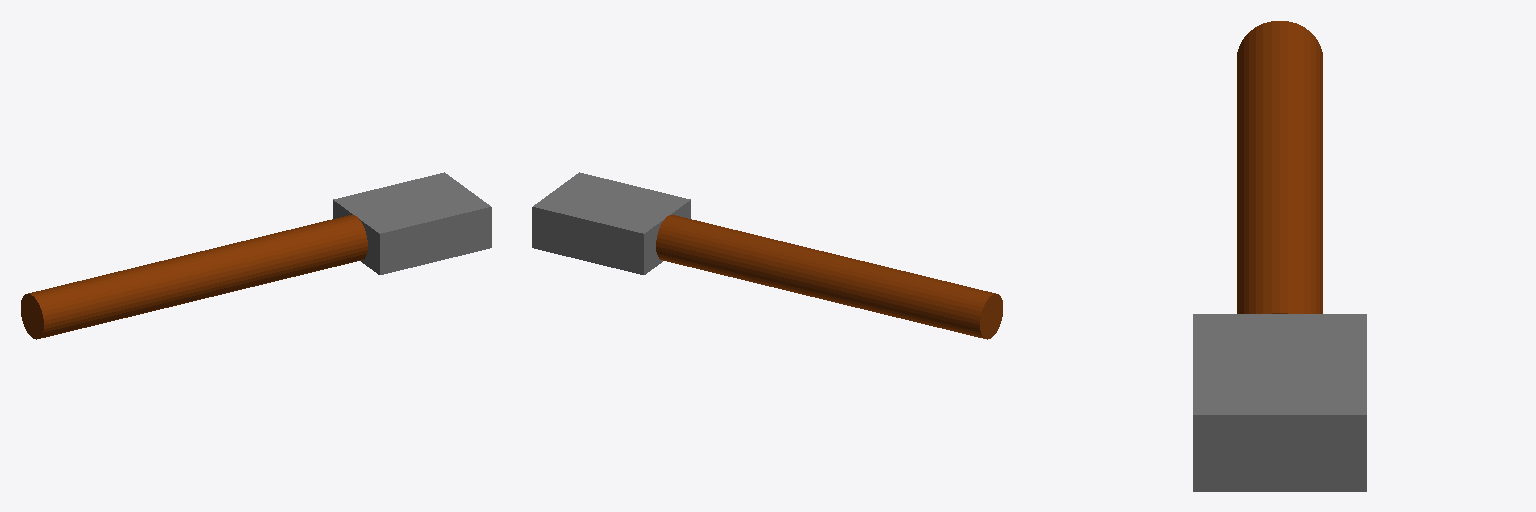
URDF robot description (handle_head):
<?xml version="1.0"?>
<robot name="handle_head">

  <link name="handle_head">
    <!-- Handle -->
    <visual>
              <origin xyz="0 0 0" rpy="0 -1.5707963267948966 0"/>
        <geometry>
          <cylinder length="0.1881517597308917" radius="0.011828863834987817"/>
        </geometry>
        
      <material name="brown">
        <color rgba="0.55 0.27 0.07 1.0"/>
      </material>
    </visual>
    <collision>
              <origin xyz="0 0 0" rpy="0 -1.5707963267948966 0"/>
        <geometry>
          <cylinder length="0.1881517597308917" radius="0.011828863834987817"/>
        </geometry>
        
    </collision>

    <!-- Head -->
    <visual>
              <origin xyz="0.12653757654765976 0 0" rpy="0 0 0"/>
        <geometry>
          <box size="0.06492339336442783 0.04709772393878903 0.023066785735568942"/>
        </geometry>
        
      <material name="gray">
        <color rgba="0.5 0.5 0.5 1.0"/>
      </material>
    </visual>
    <collision>
              <origin xyz="0.12653757654765976 0 0" rpy="0 0 0"/>
        <geometry>
          <box size="0.06492339336442783 0.04709772393878903 0.023066785735568942"/>
        </geometry>
        
    </collision>

    <inertial>
      <origin xyz="0.058527285868212 0 0" rpy="0 0 0"/>
      <mass value="0.07484442008405531"/>
      <inertia ixx="1.070477863988345e-05" iyy="0.00045270780413827116" izz="0.00045757193527536403" ixy="0" ixz="0" iyz="0"/>
    </inertial>
  </link>

</robot>

--- Facts derived from the render (not from the file) ---
3 views of the same robot in one strip: view 1: azimuth 30°, elevation 25°; view 2: azimuth 150°, elevation 25°; view 3: azimuth 270°, elevation 25° (orthographic).
Robot: handle_head — 1 links, 0 joints (none); root link handle_head; default pose: every joint at zero.
Visible links, largest first — view 1: handle_head; view 2: handle_head; view 3: handle_head.
Link boxes in pixels (x1,y1,x2,y2): handle_head: [21, 172, 491, 339]; handle_head: [532, 172, 1002, 339]; handle_head: [1193, 21, 1366, 491].
Bounding box of the posed robot: 0.2531 × 0.0471 × 0.0237 m (x, y, z).
Geometry: primitives only (box / cylinder / sphere), no mesh files.
